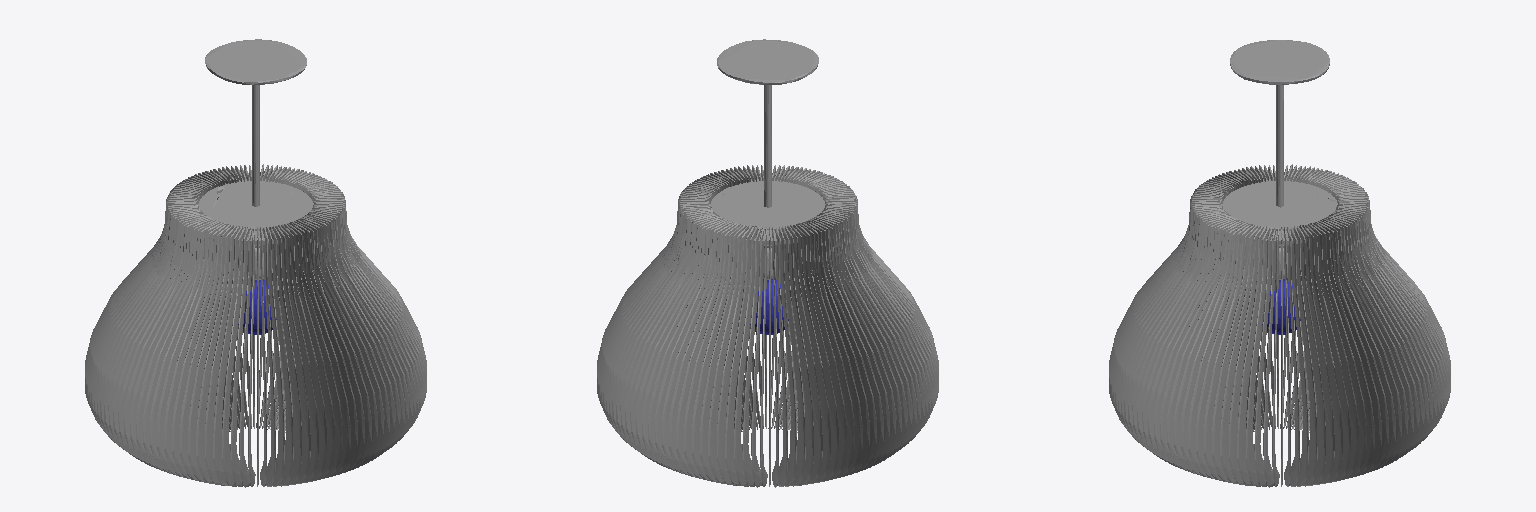
The model's file is lamp_nulus.obj.
3 views of the same model, side by side, from view 1: azimuth 30°, elevation 25°; view 2: azimuth 150°, elevation 25°; view 3: azimuth 270°, elevation 25° (orthographic).
Visible parts, largest first — view 1: Lamp-Fusilli-Bucati-Lunghi_Circle.003; view 2: Lamp-Fusilli-Bucati-Lunghi_Circle.003; view 3: Lamp-Fusilli-Bucati-Lunghi_Circle.003.
Boxes of the visible parts, <box> form: Lamp-Fusilli-Bucati-Lunghi_Circle.003: <box>85,39,426,487</box>; Lamp-Fusilli-Bucati-Lunghi_Circle.003: <box>597,39,938,487</box>; Lamp-Fusilli-Bucati-Lunghi_Circle.003: <box>1109,40,1450,487</box>.
Size of the model in its own units: 3.26 by 4.1 by 3.26.